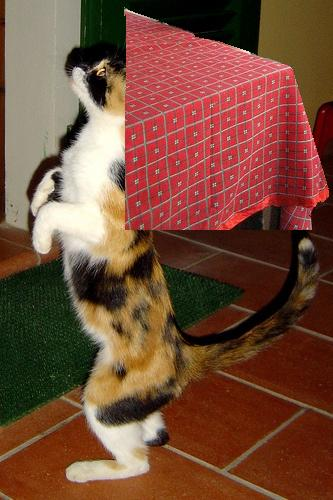tampered: (125, 8, 329, 230)
